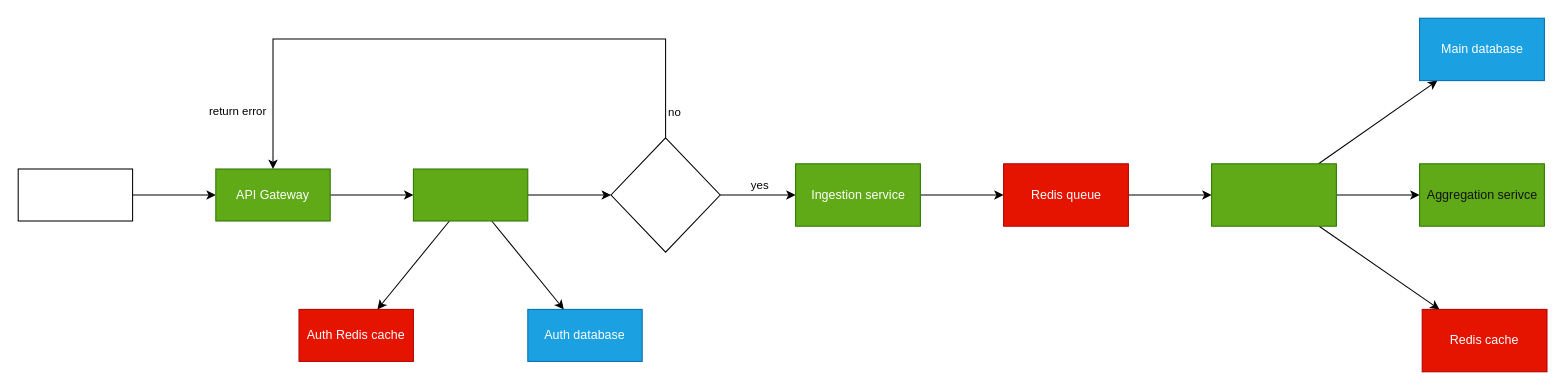
Image size: 1565x390. Some labels were removed from this diagram. Here are the shapes that lost their labels. From the top down, the centre of each, then its label:
point (75, 194): SDK
point (470, 194): Auth service
point (665, 194): valid request
point (1273, 194): Storage worker
